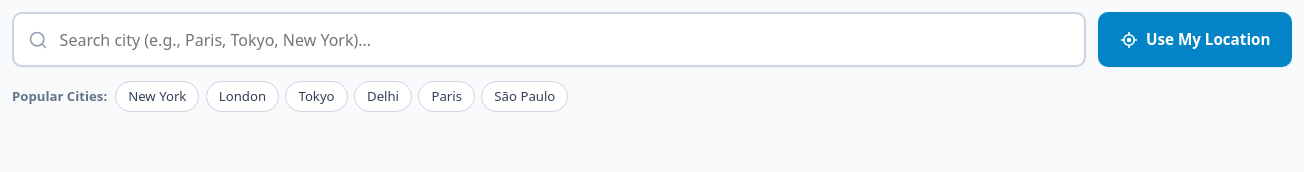
Scenario: SearchBar Component › triggers geocoding search and shows autocomplete suggestions
The image size is (1304, 172).
Later steps or results of the test are not shown.
Type "Tokyo" into the dropdown with placeholder "Search city (e.g., Paris, Tokyo, New York)...".
click(549, 40); type("Tokyo")  # box [12, 12, 1086, 67]
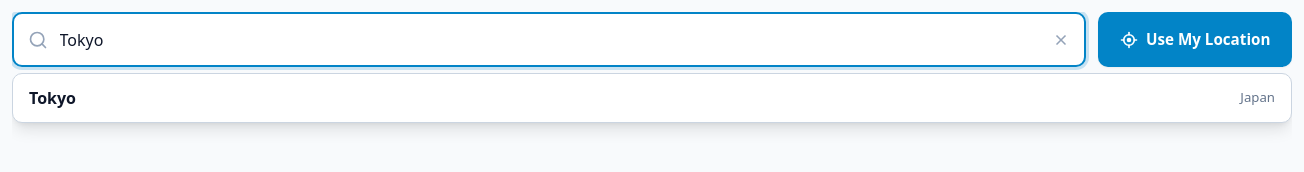
Check: the option "Tokyo Japan" is shown, box [29, 87, 1275, 109]
